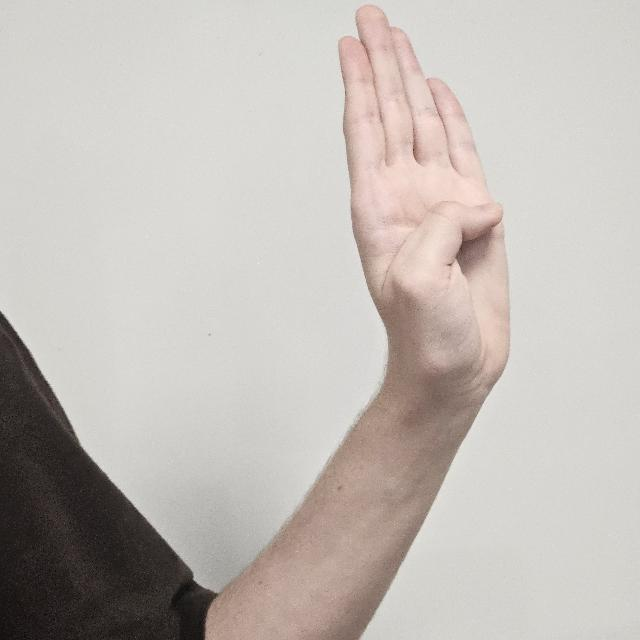Baixo: (336, 5, 542, 443)
